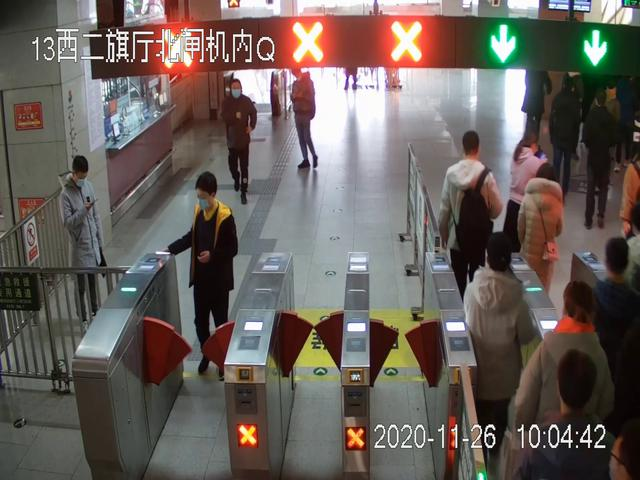person: (504, 283, 614, 480), (464, 233, 534, 454), (169, 173, 239, 383), (437, 129, 504, 298), (59, 156, 106, 336), (516, 162, 562, 340), (581, 91, 616, 231), (223, 79, 258, 205), (551, 77, 577, 203), (288, 66, 319, 170)
